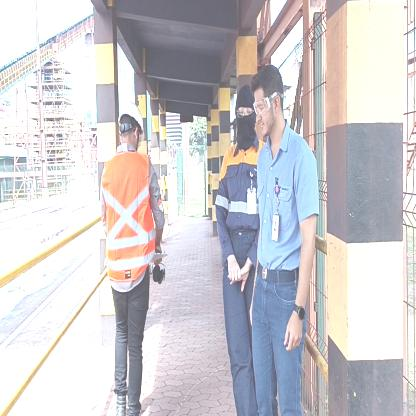Balaclava: (231, 83, 255, 146)
Capacete: (119, 100, 145, 127)
Operacional: (216, 144, 259, 226)
colete: (101, 153, 156, 276)
